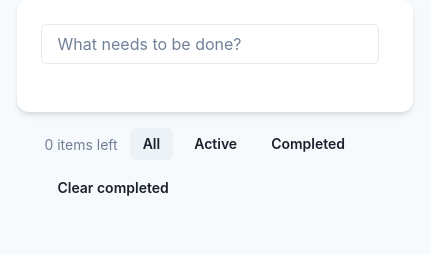
Test: App integration › очищает завершённые задачи
Type "Completed task" into the field with placeholder "What needs to be done?" at {"x": 210, "y": 44}, box [41,24,379,64]
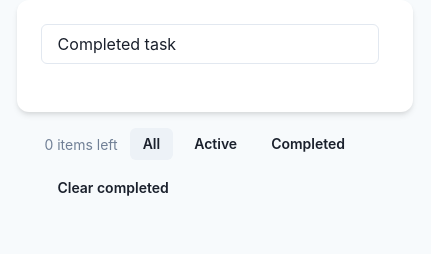
Press Enter in the field with placeholder "What needs to be done?", box [41,24,379,64]
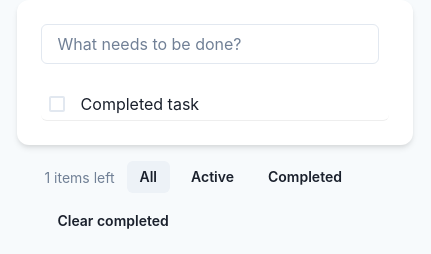
Click the checkbox at {"x": 124, "y": 104}, box [49,92,199,116]
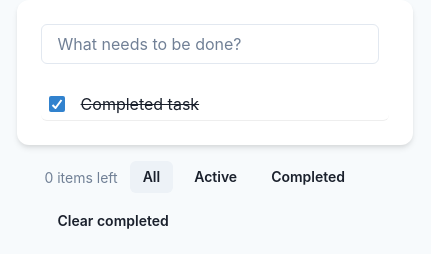
Click the button "Clear completed" at {"x": 113, "y": 221}, box [44,205,182,237]
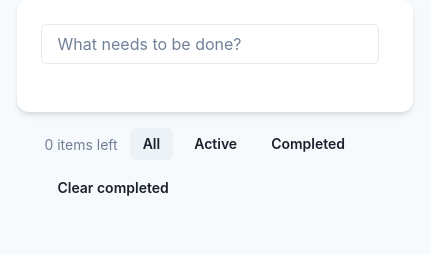
Check: the text "Completed task" is gone
